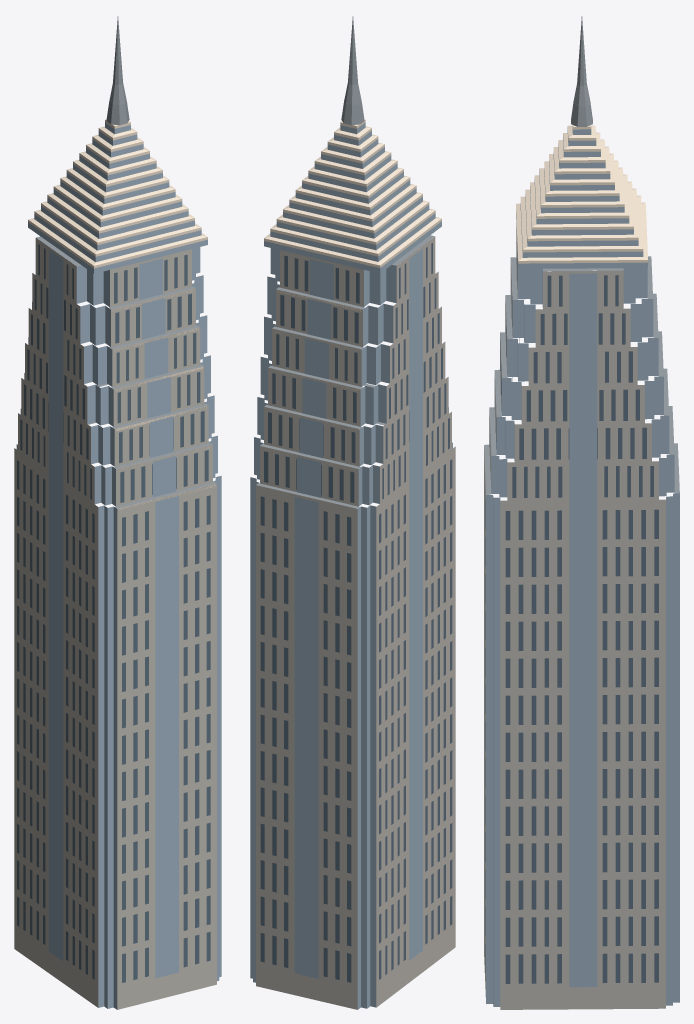
File: detail.glb
3 renders of one model, left to right at view 1: azimuth 30°, elevation 25°; view 2: azimuth 150°, elevation 25°; view 3: azimuth 270°, elevation 25°, orthographic.
Parts seen in each view (by area): view 1: two-prudential-plaza; view 2: two-prudential-plaza; view 3: two-prudential-plaza.
Boxes of the visible parts, x1,y1,x2,y2 form: two-prudential-plaza: (14, 16, 221, 1009); two-prudential-plaza: (250, 16, 455, 1009); two-prudential-plaza: (484, 16, 679, 1009).
Bounding box in the file's own units: 42.52 × 303 × 55.78.
